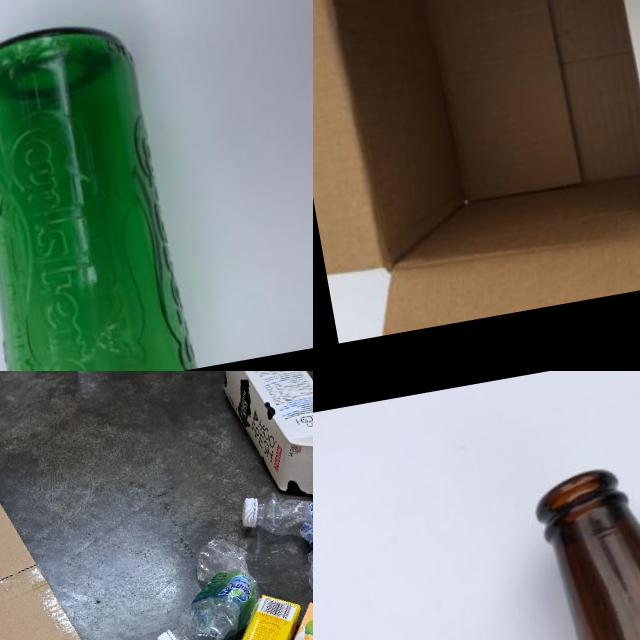caixinha: (214, 371, 313, 512), (189, 588, 313, 640)
garrafa de vidro: (0, 15, 196, 371), (529, 432, 640, 640)
garrafa plástica: (140, 533, 268, 640), (239, 475, 313, 611), (238, 494, 264, 530)
papelão: (313, 0, 640, 343), (0, 409, 218, 640)
tampa plástica: (155, 626, 188, 640)
